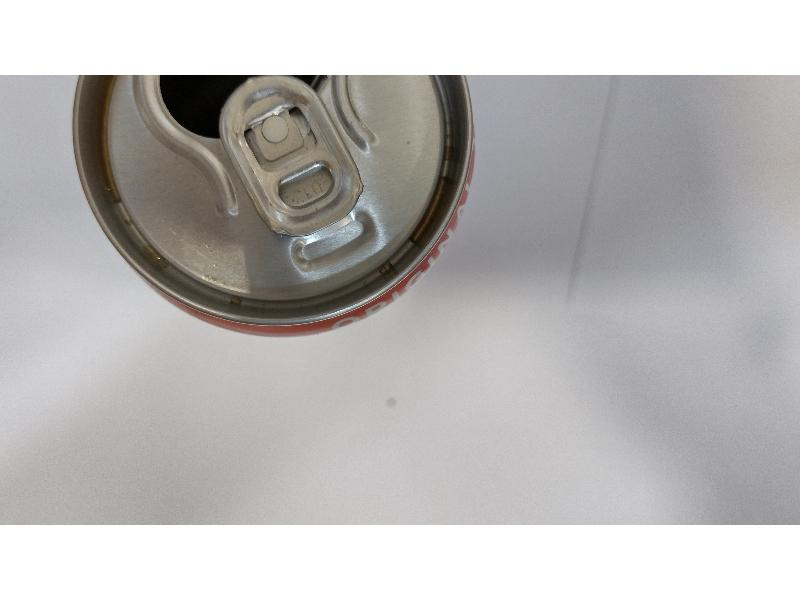can: (66, 75, 485, 347)
